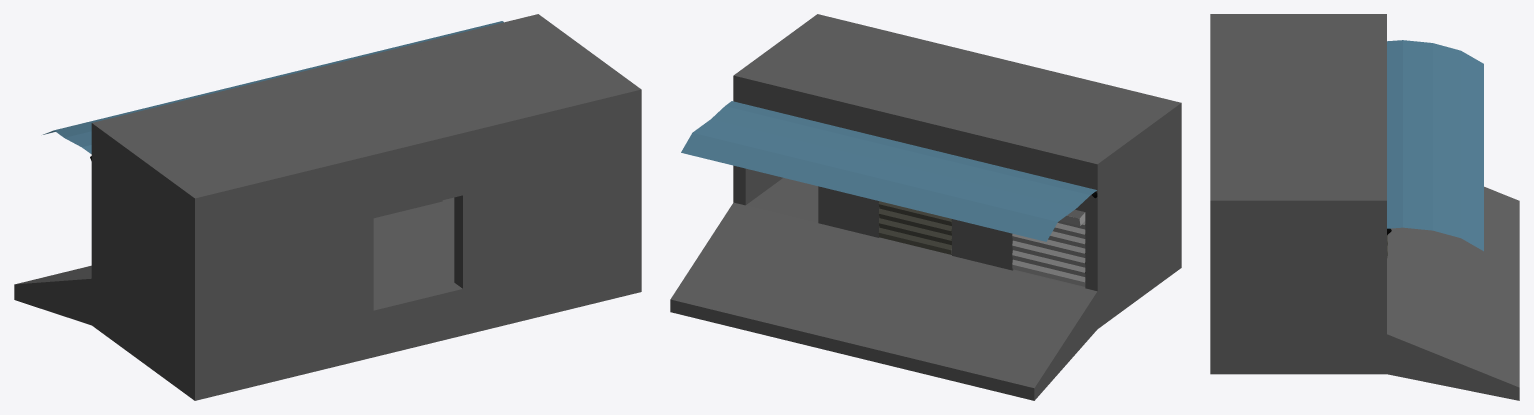
The model's file is garaj_girisi1.fbx.
The picture shows the model from 3 angles, left to right: view 1: azimuth 30°, elevation 25°; view 2: azimuth 150°, elevation 25°; view 3: azimuth 270°, elevation 25°; orthographic projection. The views are drawn at different scales.
Visible parts, largest first — view 1: Cube.014; view 2: Cube.014; view 3: Cube.014.
Boxes of the visible parts, bbox=[...] form: Cube.014: bbox=[14, 14, 641, 400]; Cube.014: bbox=[670, 14, 1181, 400]; Cube.014: bbox=[1210, 14, 1519, 400].
Bounding box in the file's own units: 1530 × 750 × 1050.
